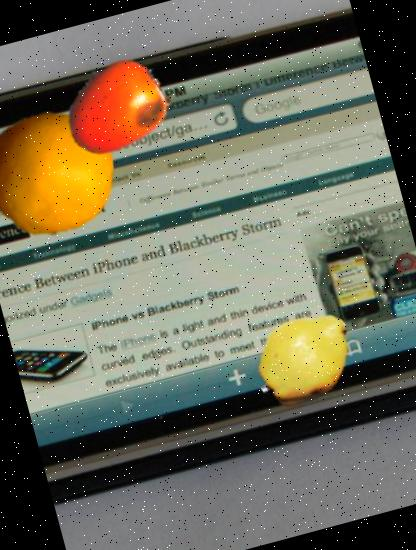Grapefruit: (0, 94, 129, 253)
Kaki: (48, 38, 184, 174)
Quince: (240, 293, 370, 423)
